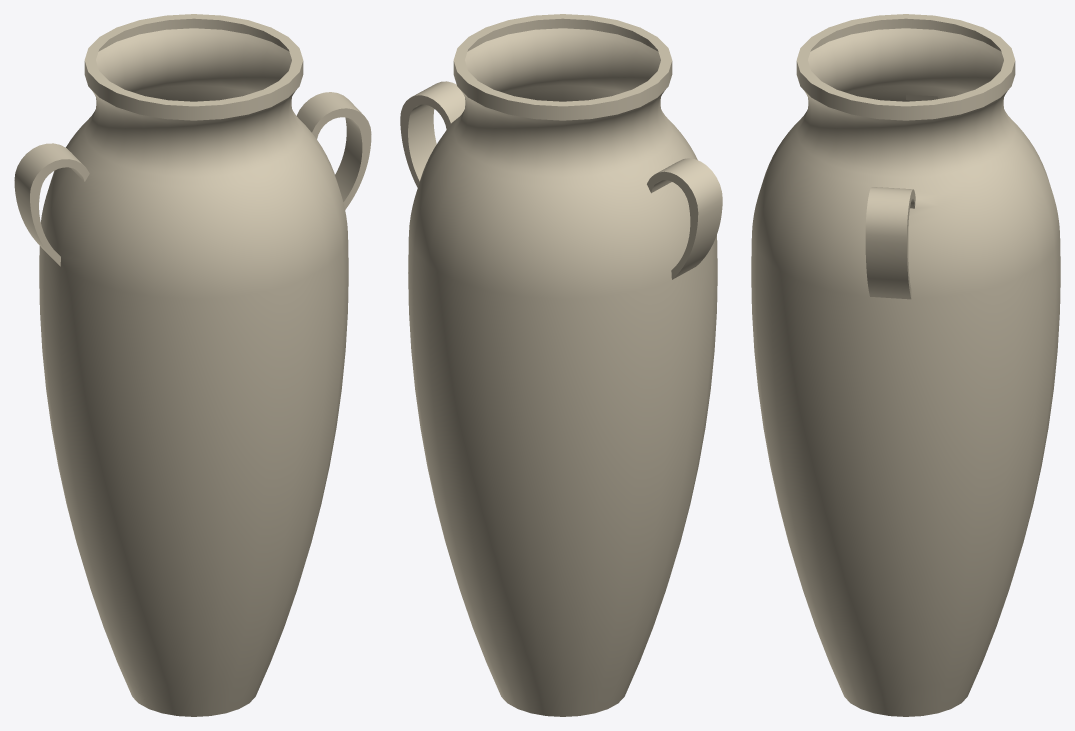
File: vase3_1.dae
The picture shows the model from 3 angles, left to right: view 1: azimuth 30°, elevation 25°; view 2: azimuth 150°, elevation 25°; view 3: azimuth 270°, elevation 25°; orthographic projection.
Parts seen in each view (by area): view 1: SketchUp; view 2: SketchUp; view 3: SketchUp.
Boxes of the visible parts, x1=… form: SketchUp: x1=14, y1=14, x2=371, y2=716; SketchUp: x1=400, y1=14, x2=722, y2=716; SketchUp: x1=751, y1=14, x2=1060, y2=716.
Bounding box in the file's own units: 0.6055 × 0.5007 × 1.12.
